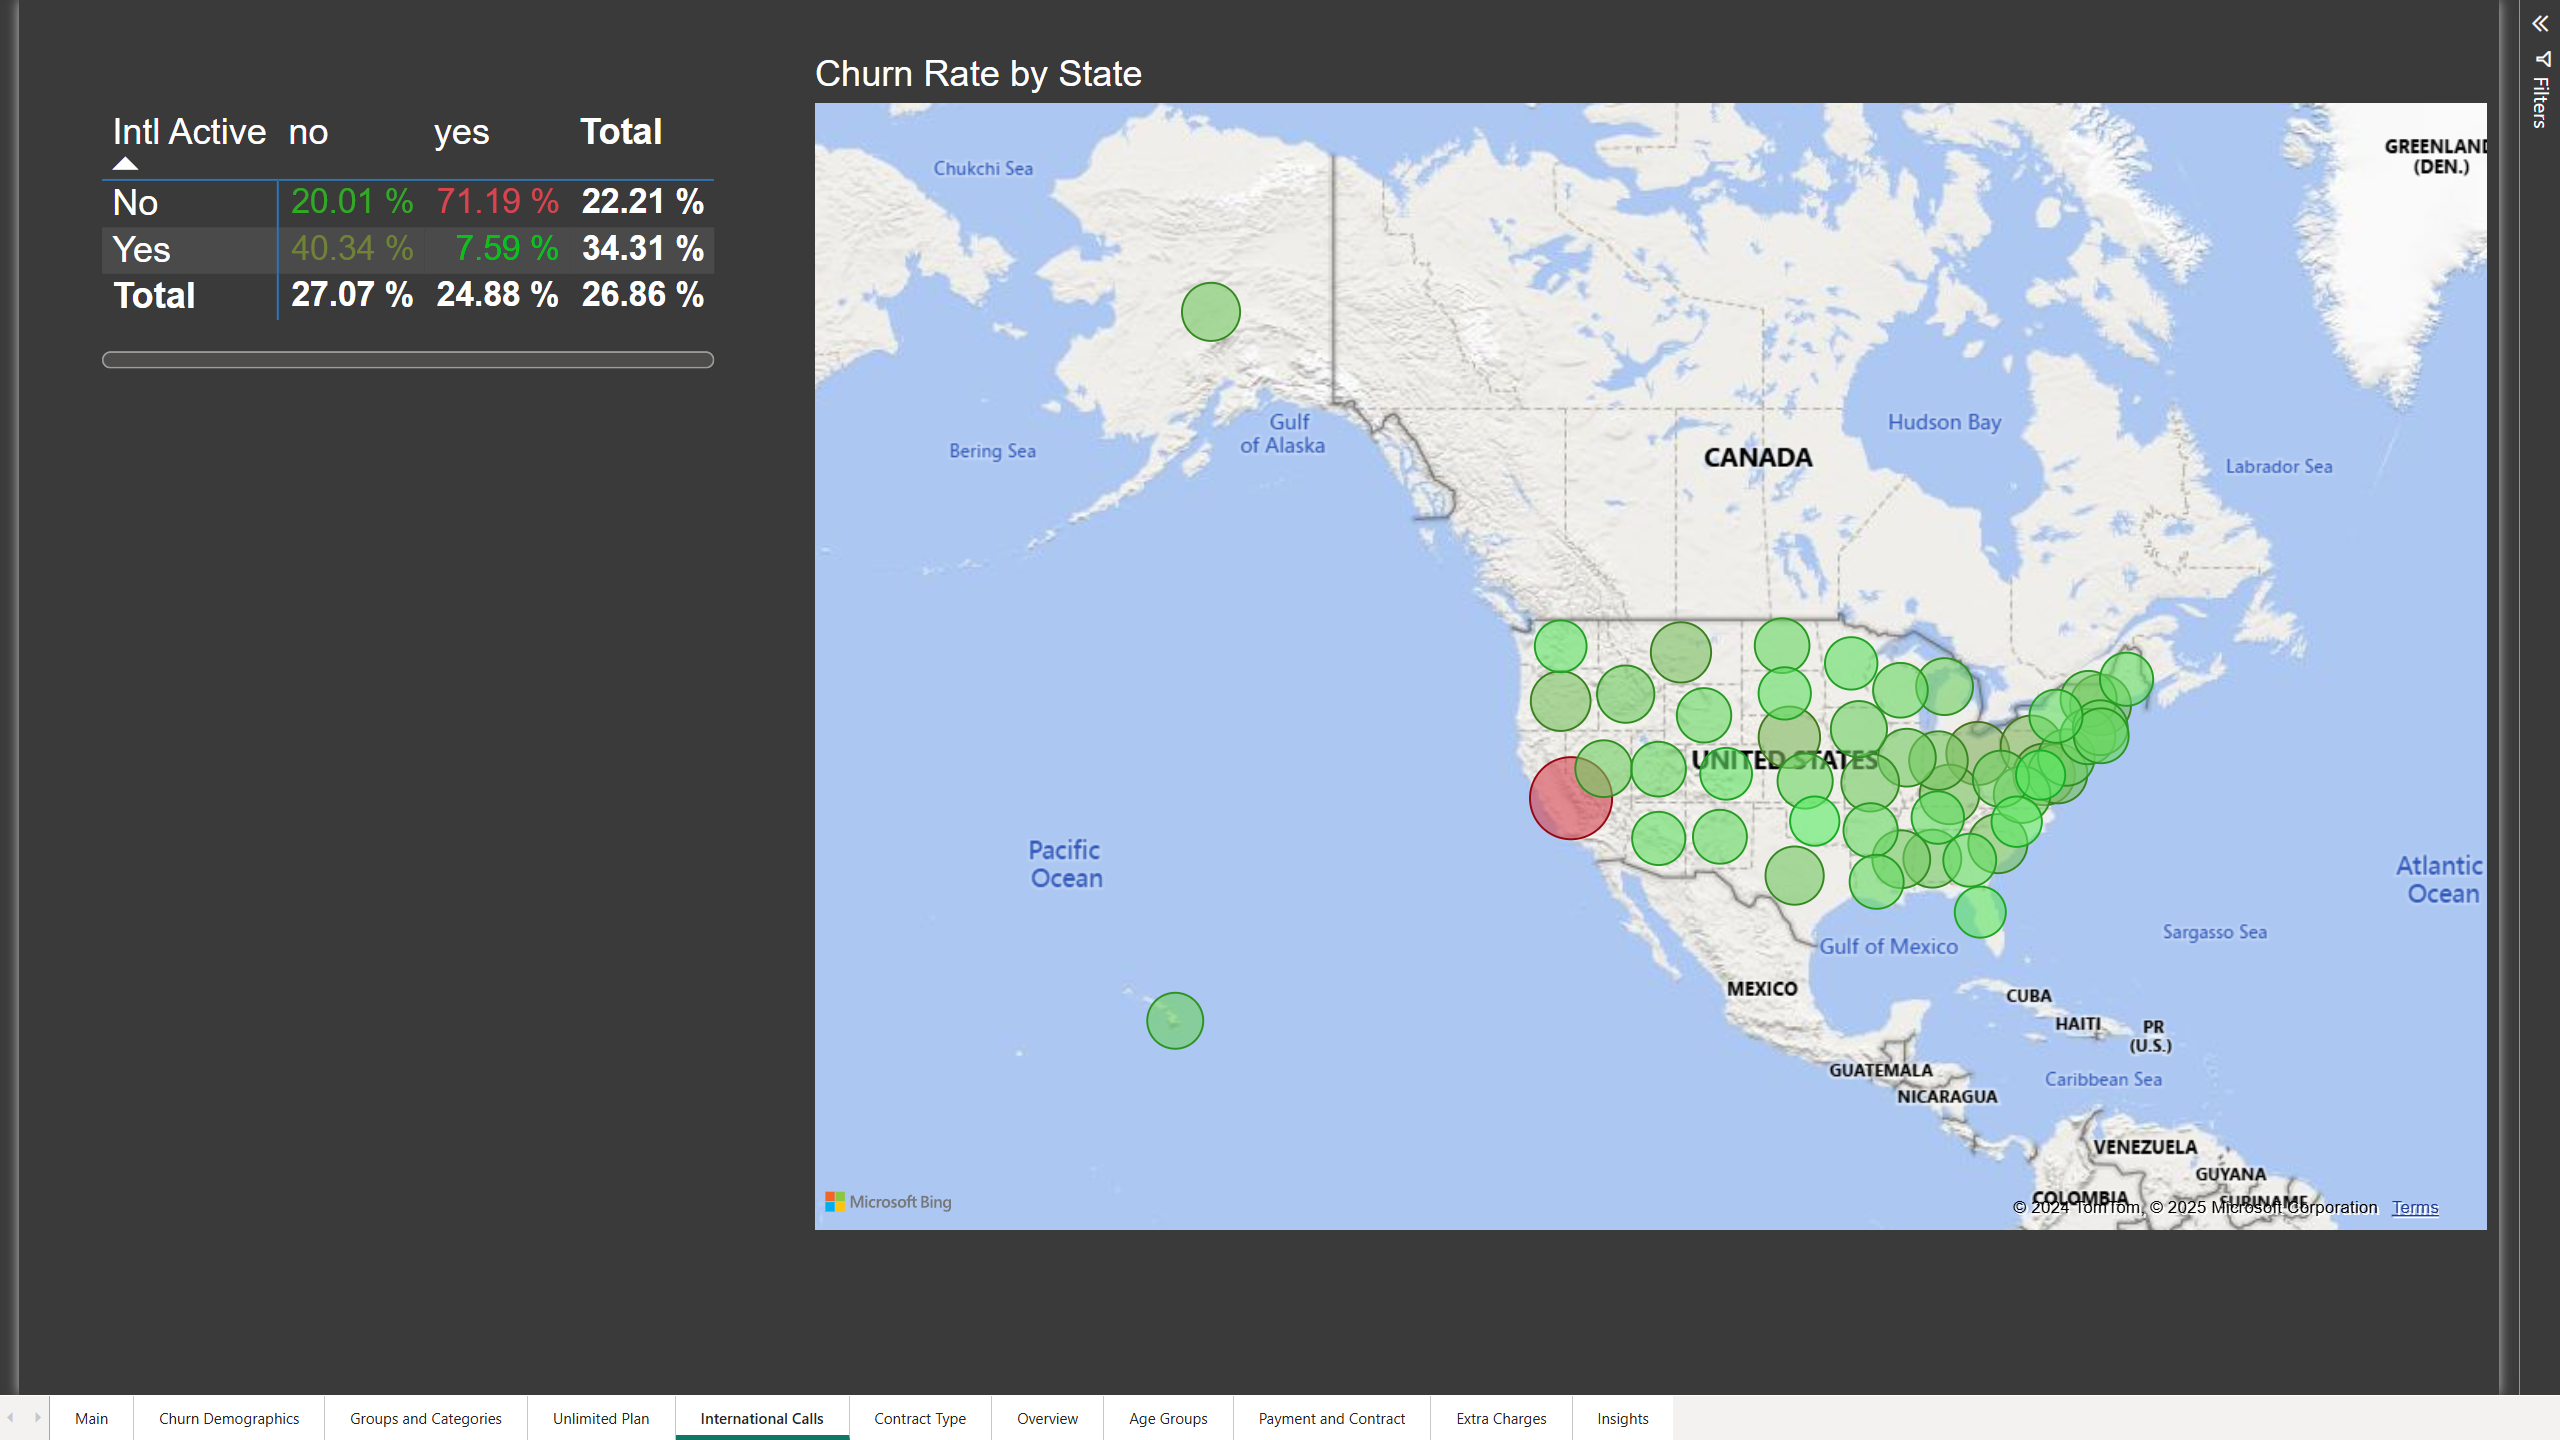

The page's visual inventory and layout, read from the dashboard file:
{"tool":"powerbi","page":{"name":"International Calls","canvas":[1280,720],"ordinal":4},"visuals":[{"type":"pivotTable","fields":{"Rows":["Databel - Data.Intl Active"],"Values":["Databel - Data.Churn Rate"],"Columns":["Databel - Data.Intl Plan"]},"box":[38,51.1,325.7,144.6],"z":0},{"type":"map","fields":{"Category":["Databel - Data.State"],"Size":["Databel - Data.Churn Rate"]},"box":[406,27.7,873.3,611.9],"z":1000}]}

Visuals, with their boxes on the page's 1280x720 design canvas (x1, y1, x2, y2). These are canvas units, not pixel positions in the 2560x1440 screenshot, which may show the page scaled, cropped or inside an application window:
pivotTable - Databel - Data.Intl Active x Databel - Data.Churn Rate: bbox(38, 51, 364, 196)
map - Databel - Data.State x Databel - Data.Churn Rate: bbox(406, 28, 1279, 640)
